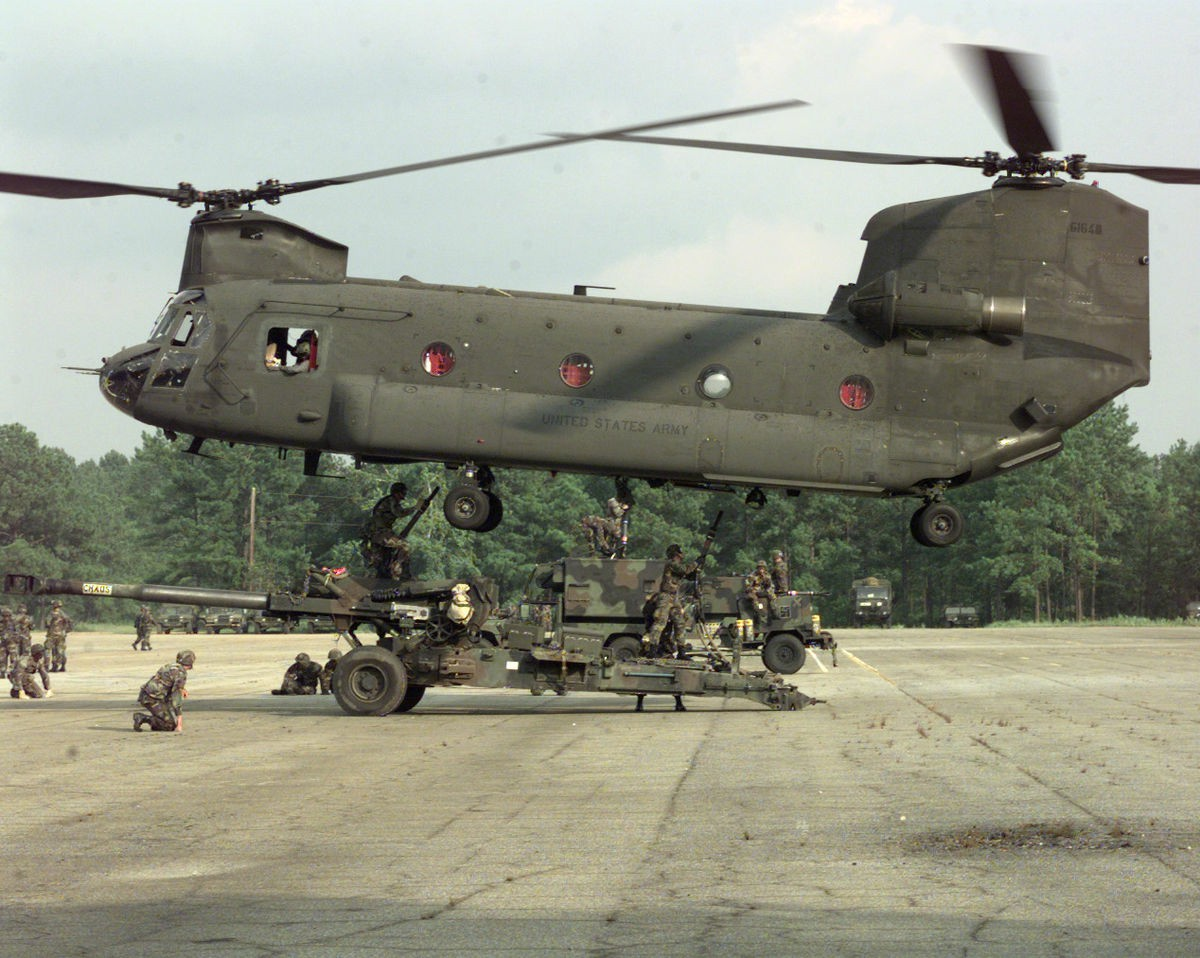chinook: (66, 76, 1171, 529)
